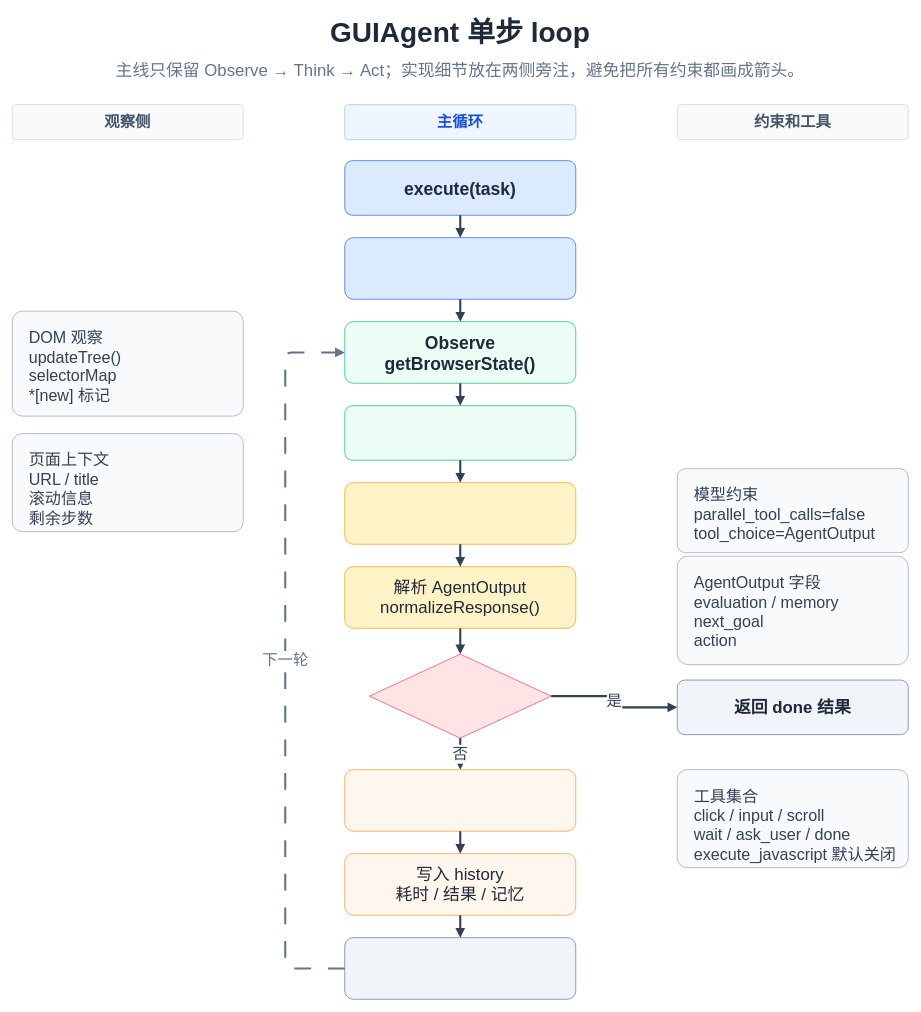
Some shapes in this 921 by 1012 pixel diagram are drawn without their labels. The shapes that lost their labels are listed below. From the top down, each one's centre as x and y in pixels, then its label:
[460,268]: 重置运行态 taskId / history / abort
[460,432]: 拼 system/user prompt
[460,513]: Think LLM.invoke()
[460,695]: action = done?
[460,800]: Act 执行一个工具
[460,968]: 检查边界 maxSteps / abort / afterStep
